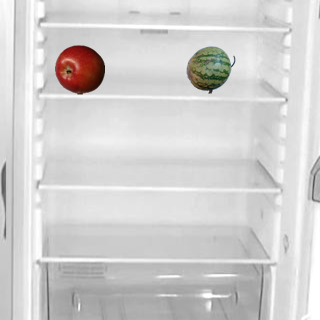Apple Braeburn: (54, 44, 104, 94)
Watermelon: (185, 44, 235, 94)
